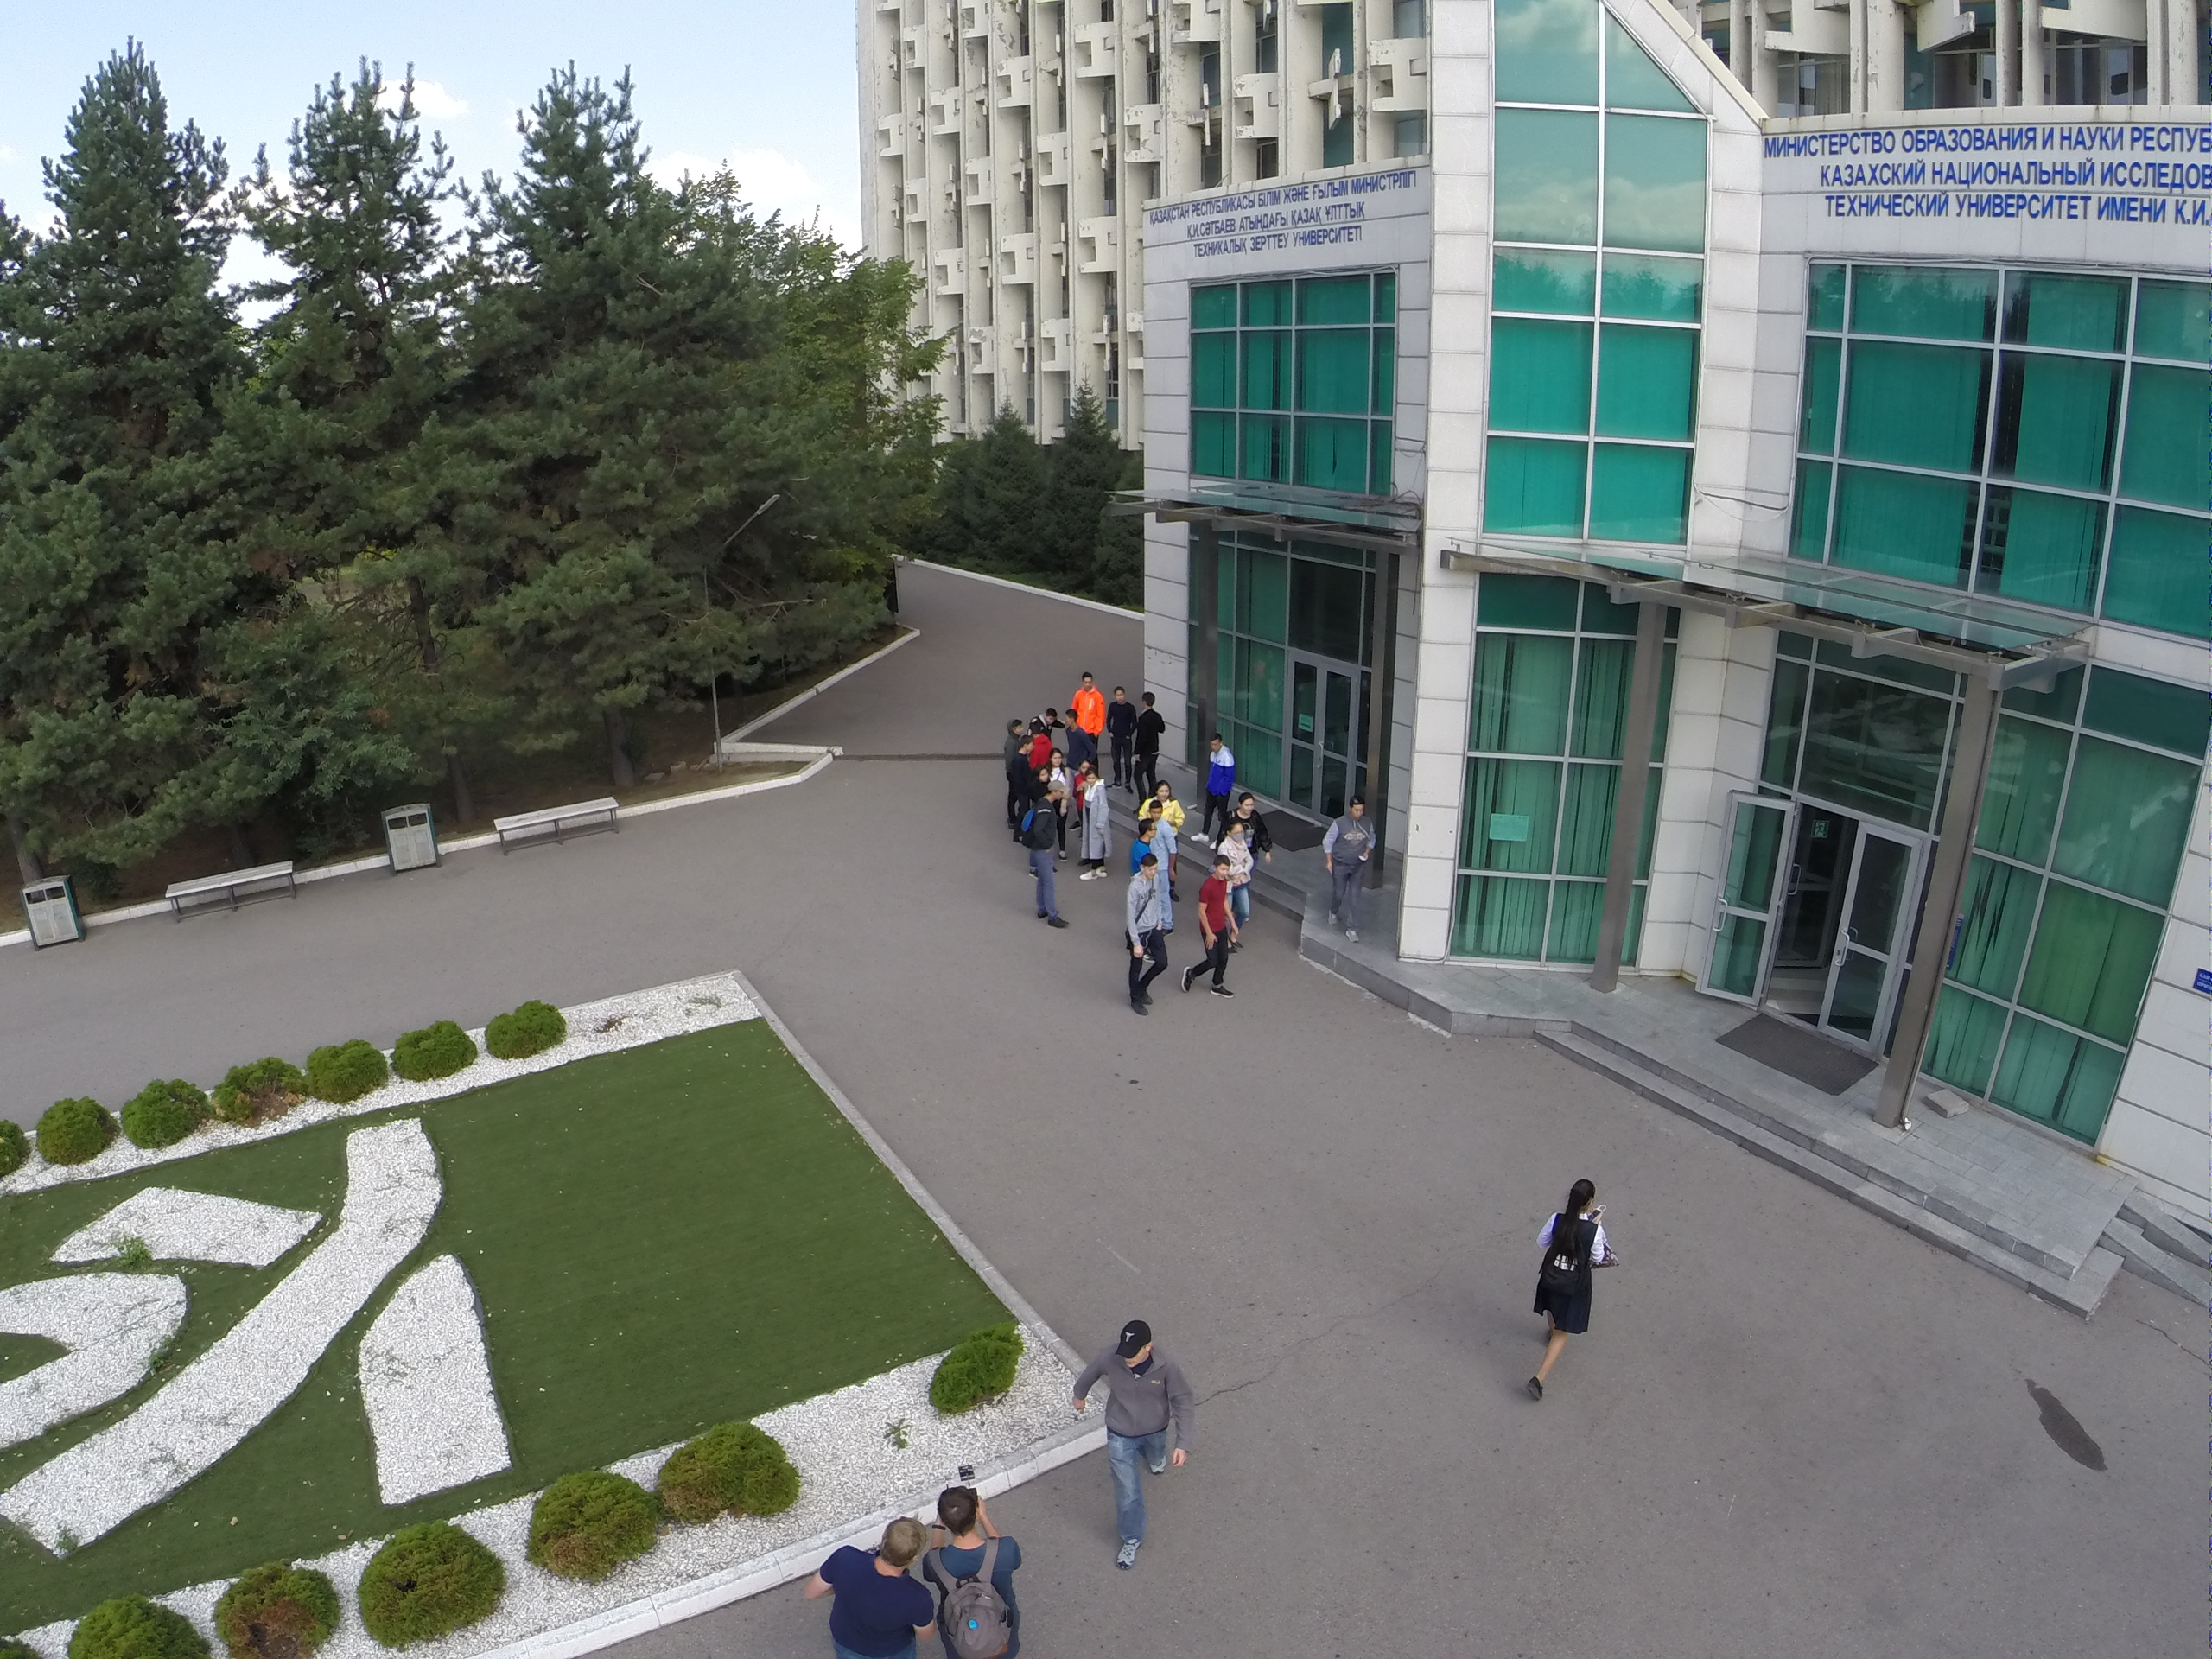person: (1065, 1315, 1198, 1570), (1520, 1176, 1624, 1409), (1122, 857, 1176, 1019), (1327, 799, 1378, 946), (1190, 854, 1236, 1001), (1025, 779, 1068, 929), (1109, 680, 1139, 790), (1084, 766, 1110, 884), (1197, 730, 1220, 846), (1003, 716, 1027, 831), (1134, 691, 1160, 780), (1061, 706, 1092, 764), (1233, 790, 1268, 837), (1222, 819, 1249, 872), (1070, 672, 1103, 712)
